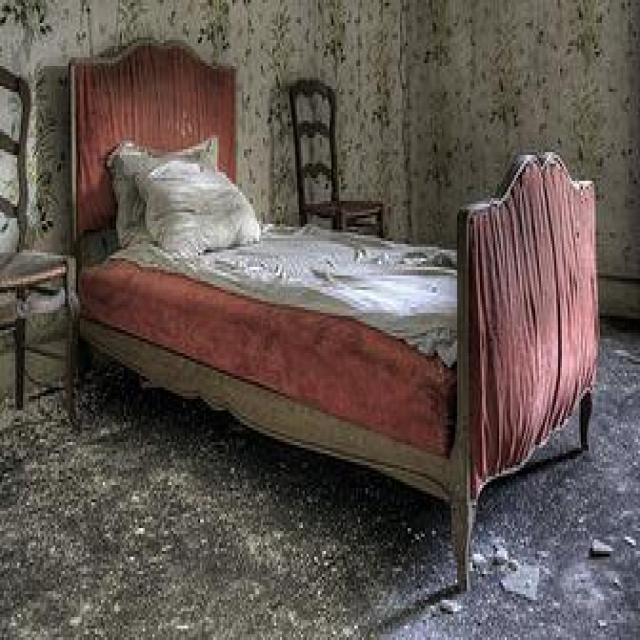bed: (67, 34, 600, 592)
chair: (288, 78, 384, 236)
